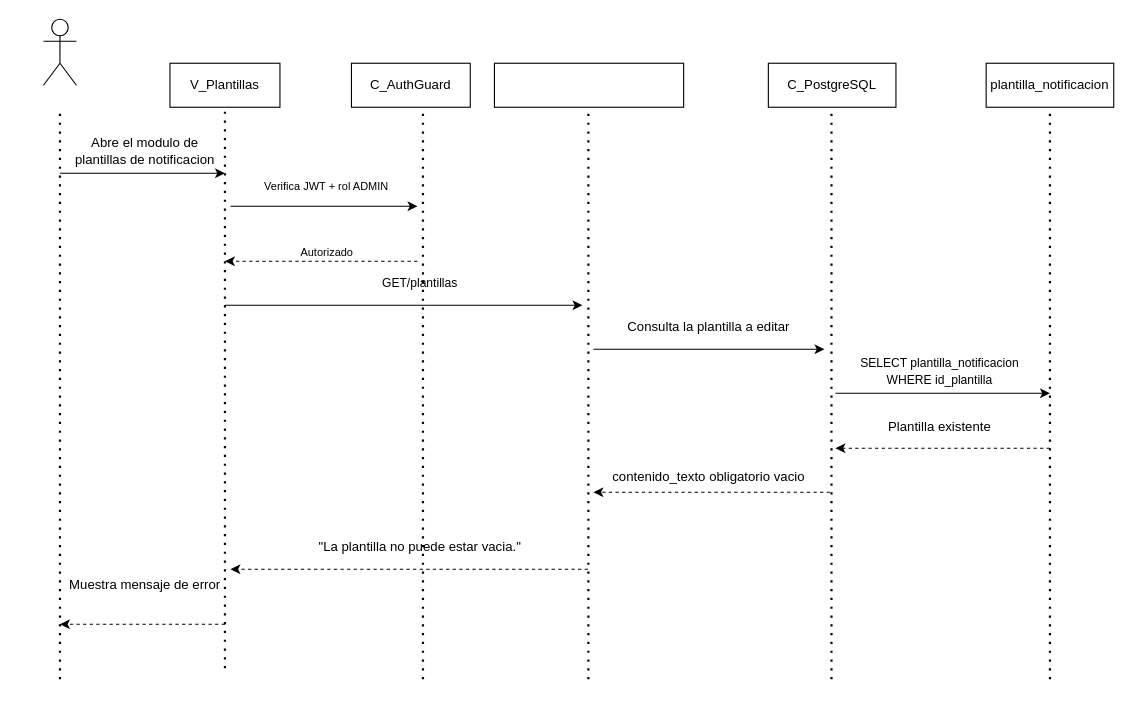
This 1133x701 diagram has some shape labels left out. Here are the shapes that lost their labels. From the top down, the centre of each, then its label:
At [59,51]: "Administrador".
At [588,84]: "C_PlantillaController".
